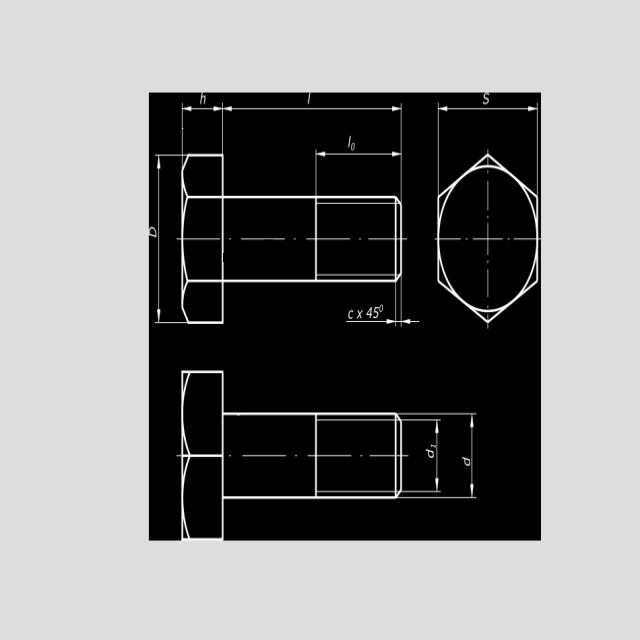marking_line: (222, 101, 404, 152), (436, 102, 540, 152), (155, 154, 182, 325), (314, 149, 403, 196), (346, 285, 423, 326), (442, 412, 478, 499), (402, 417, 441, 494), (181, 104, 225, 154)
numeric: (461, 456, 471, 467), (199, 92, 207, 105), (373, 306, 380, 319), (366, 306, 373, 319), (425, 449, 435, 458), (346, 135, 351, 150), (348, 308, 353, 319), (350, 142, 355, 151), (430, 443, 436, 450), (308, 92, 310, 105)
special_symbol: (356, 309, 364, 320), (379, 304, 383, 313)
